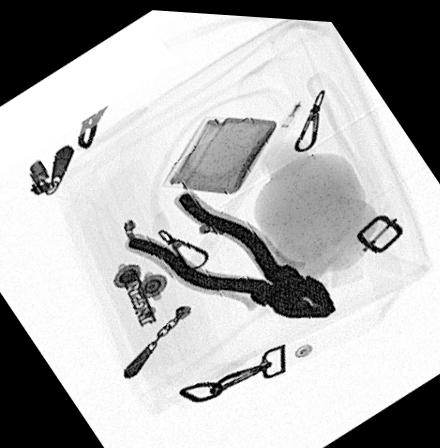Pliers: (122, 182, 339, 314)
